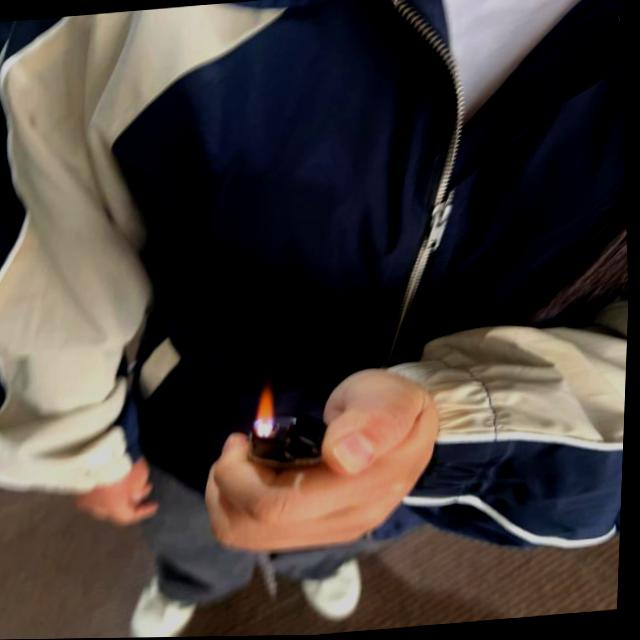helmet: (252, 382, 279, 440)
